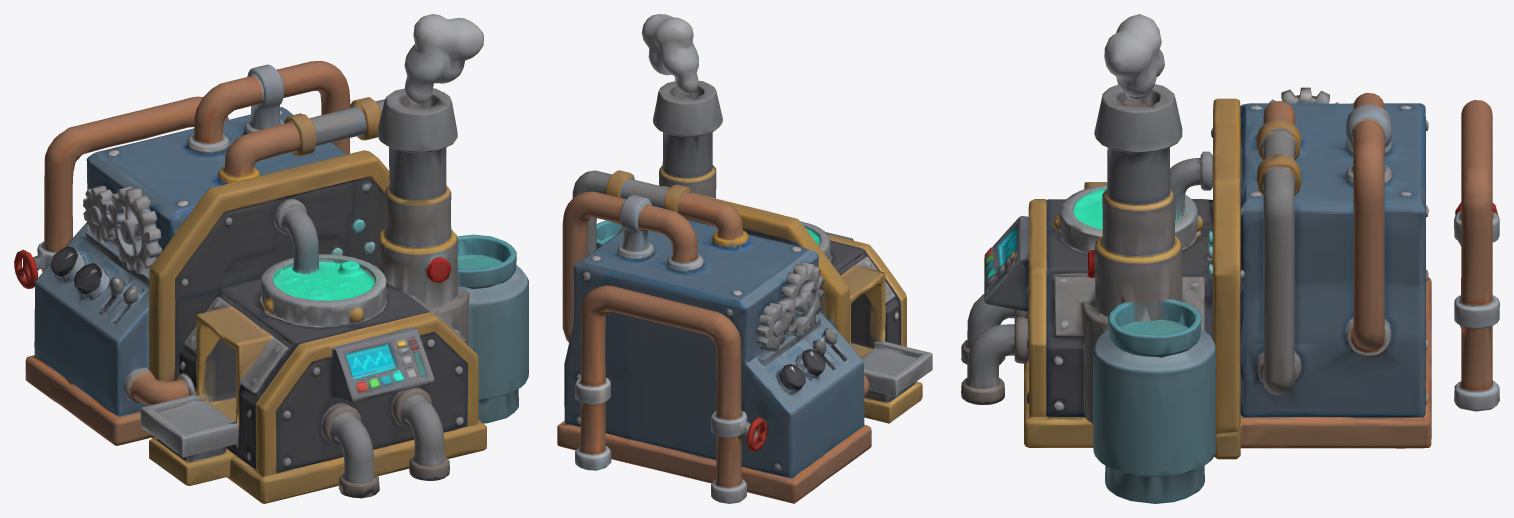
Rendered from steampunk_machine_3d_model.fbx.
3 views of the same model, side by side, from view 1: azimuth 30°, elevation 25°; view 2: azimuth 150°, elevation 25°; view 3: azimuth 270°, elevation 25° (orthographic). The views are drawn at different scales.
Visible parts, largest first — view 1: tripo_node_f21424a3; view 2: tripo_node_f21424a3; view 3: tripo_node_f21424a3.
Boxes of the visible parts, x1,y1,x2,y2 form: tripo_node_f21424a3: (14, 14, 528, 503); tripo_node_f21424a3: (557, 14, 932, 503); tripo_node_f21424a3: (961, 14, 1499, 503).
Size of the model in its own units: 0.8456 by 0.8866 by 0.98.
